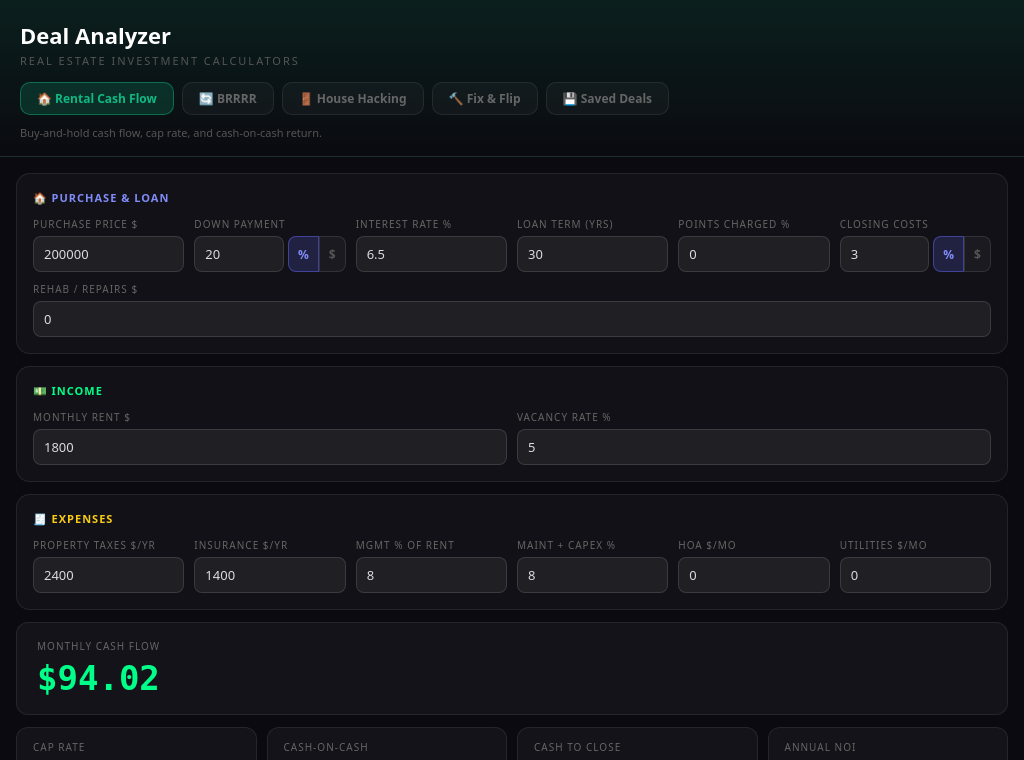
house hacking tab shows the calculator with computed outputs
Click the button "🚪 House Hacking".
click(353, 98)  # box [282,82,424,115]
(page scrolled)
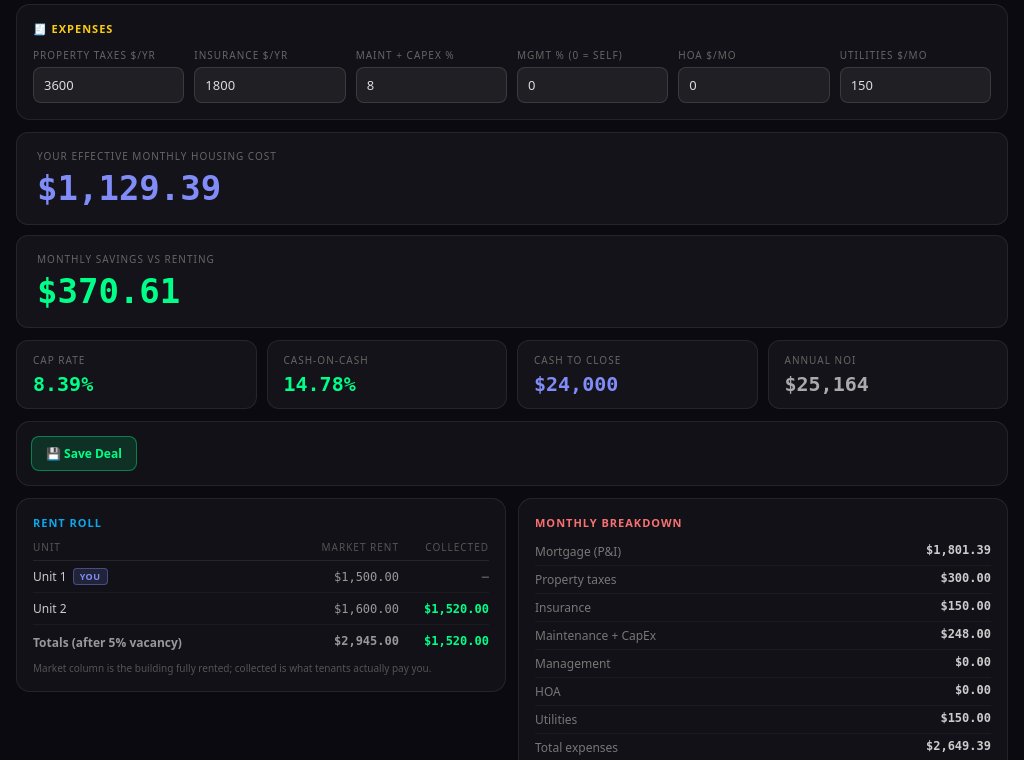
expect the text "Your Effective Monthly Housing Cost" is shown: met, box [37,149,277,163]
expect the text "Monthly Savings vs Renting" is shown: met, box [37,252,215,266]
expect the text "Rent Roll" is shown: met, box [33,515,102,530]
